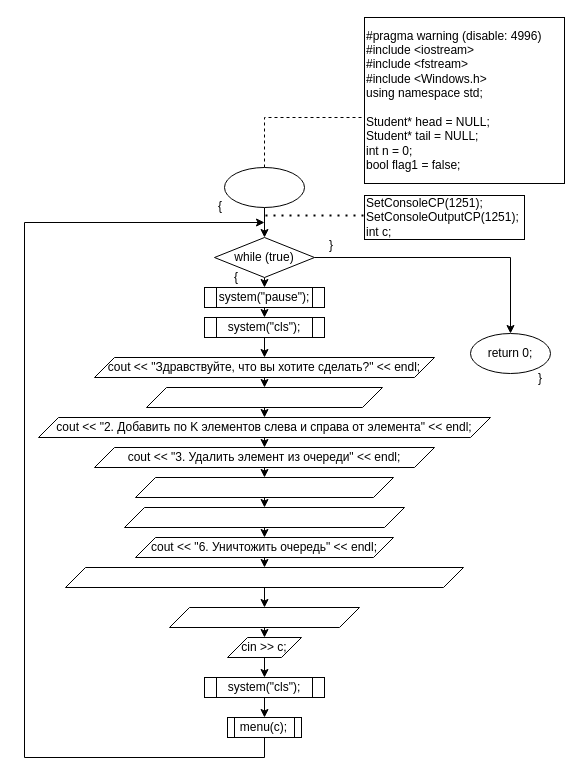
The diagram is 582 pixels wide and 783 high, and some of its shapes have lost their labels. Each missing label, with the centre of its shape:
cout << "1. Создать очередь" << endl;: [264,397]
cout << "4. Напечатать очередь" << endl;: [264,487]
cout << "5. Записать очередь в файл" << endl;: [264,517]
cout << "7. Восстановить очередь из файла" << endl; cout << endl;: [264,577]
cout << "Введите c" << endl;: [264,617]
int main(): [264,187]
